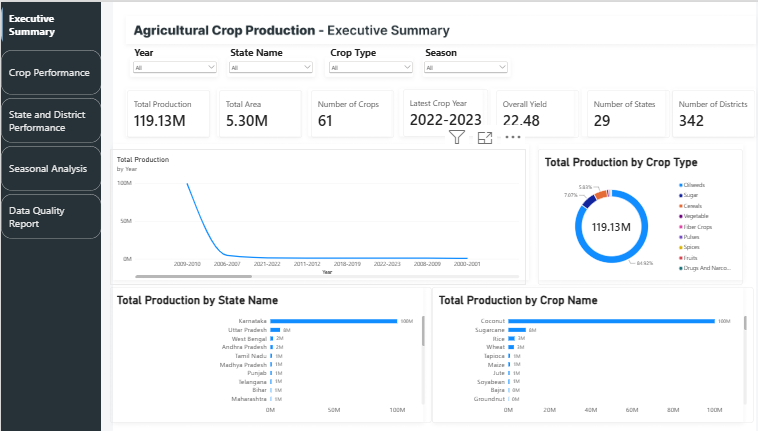

This screenshot's page, from the dashboard's own definition file:
{"tool":"powerbi","page":{"name":"Executive Summary","canvas":[1920,1080],"ordinal":0},"visuals":[{"type":"cardVisual","fields":{"Data":["agriculture_cleaned_data.Total Production"]},"box":[316.2,219.1,208,120],"z":0},{"type":"cardVisual","fields":{"Data":["agriculture_cleaned_data.Total Area"]},"box":[544.4,219.1,208,120],"z":1000},{"type":"cardVisual","fields":{"Data":["agriculture_cleaned_data.Overall Yield"]},"box":[1237.8,219.1,208,120],"z":2000},{"type":"cardVisual","fields":{"Data":["agriculture_cleaned_data.Number of States"]},"box":[1466,219.1,208,120],"z":3000},{"type":"cardVisual","fields":{"Data":["agriculture_cleaned_data.Number of Districts"]},"box":[1678.3,219.1,208,120],"z":4000},{"type":"cardVisual","fields":{"Data":["agriculture_cleaned_data.Number of Crops"]},"box":[774.8,219.1,208,120],"z":5000},{"type":"cardVisual","fields":{"Data":["agriculture_cleaned_data.Latest Crop Year"]},"box":[1004.7,218.6,214,120.9],"z":6000},{"type":"lineChart","fields":{"Category":["agriculture_cleaned_data.Year"],"Y":["agriculture_cleaned_data.Total Production"]},"box":[273.3,368.2,1040,340],"z":7000},{"type":"donutChart","fields":{"Category":["agriculture_cleaned_data.Crop Type"],"Y":["agriculture_cleaned_data.Total Production"]},"box":[1341.7,368.2,512,340],"z":8000},{"type":"barChart","fields":{"Category":["agriculture_cleaned_data.State Name"],"Y":["agriculture_cleaned_data.Total Production"]},"box":[273.3,711.5,804,340],"z":9000},{"type":"barChart","fields":{"Category":["agriculture_cleaned_data.Crop Name"],"Y":["agriculture_cleaned_data.Total Production"]},"box":[1077.5,711.5,804,340],"z":10000},{"type":"slicer","fields":{"Values":["agriculture_cleaned_data.Year"]},"box":[325.6,109.3,218.6,93],"z":11000},{"type":"slicer","fields":{"Values":["agriculture_cleaned_data.State Name"]},"box":[565.1,109.3,218.6,93],"z":12000},{"type":"slicer","fields":{"Values":["agriculture_cleaned_data.Crop Type"]},"box":[814,109.3,218.6,93],"z":13000},{"type":"slicer","fields":{"Values":["agriculture_cleaned_data.Season"]},"box":[1053.5,109.3,218.6,93],"z":14000},{"type":"pageNavigator","box":[0,0,251.2,595.3],"z":15000}]}

Visuals, with their boxes on the page's 1920x1080 design canvas (x1, y1, x2, y2). These are canvas units, not pixel positions in the 758x431 screenshot, which may show the page scaled, cropped or inside an application window:
cardVisual - agriculture_cleaned_data.Total Production: (316, 219, 524, 339)
cardVisual - agriculture_cleaned_data.Total Area: (544, 219, 752, 339)
cardVisual - agriculture_cleaned_data.Overall Yield: (1238, 219, 1446, 339)
cardVisual - agriculture_cleaned_data.Number of States: (1466, 219, 1674, 339)
cardVisual - agriculture_cleaned_data.Number of Districts: (1678, 219, 1886, 339)
cardVisual - agriculture_cleaned_data.Number of Crops: (775, 219, 983, 339)
cardVisual - agriculture_cleaned_data.Latest Crop Year: (1005, 219, 1219, 340)
lineChart - agriculture_cleaned_data.Year x agriculture_cleaned_data.Total Production: (273, 368, 1313, 708)
donutChart - agriculture_cleaned_data.Crop Type x agriculture_cleaned_data.Total Production: (1342, 368, 1854, 708)
barChart - agriculture_cleaned_data.State Name x agriculture_cleaned_data.Total Production: (273, 712, 1077, 1052)
barChart - agriculture_cleaned_data.Crop Name x agriculture_cleaned_data.Total Production: (1078, 712, 1882, 1052)
slicer - agriculture_cleaned_data.Year: (326, 109, 544, 202)
slicer - agriculture_cleaned_data.State Name: (565, 109, 784, 202)
slicer - agriculture_cleaned_data.Crop Type: (814, 109, 1033, 202)
slicer - agriculture_cleaned_data.Season: (1054, 109, 1272, 202)
pageNavigator: (0, 0, 251, 595)
